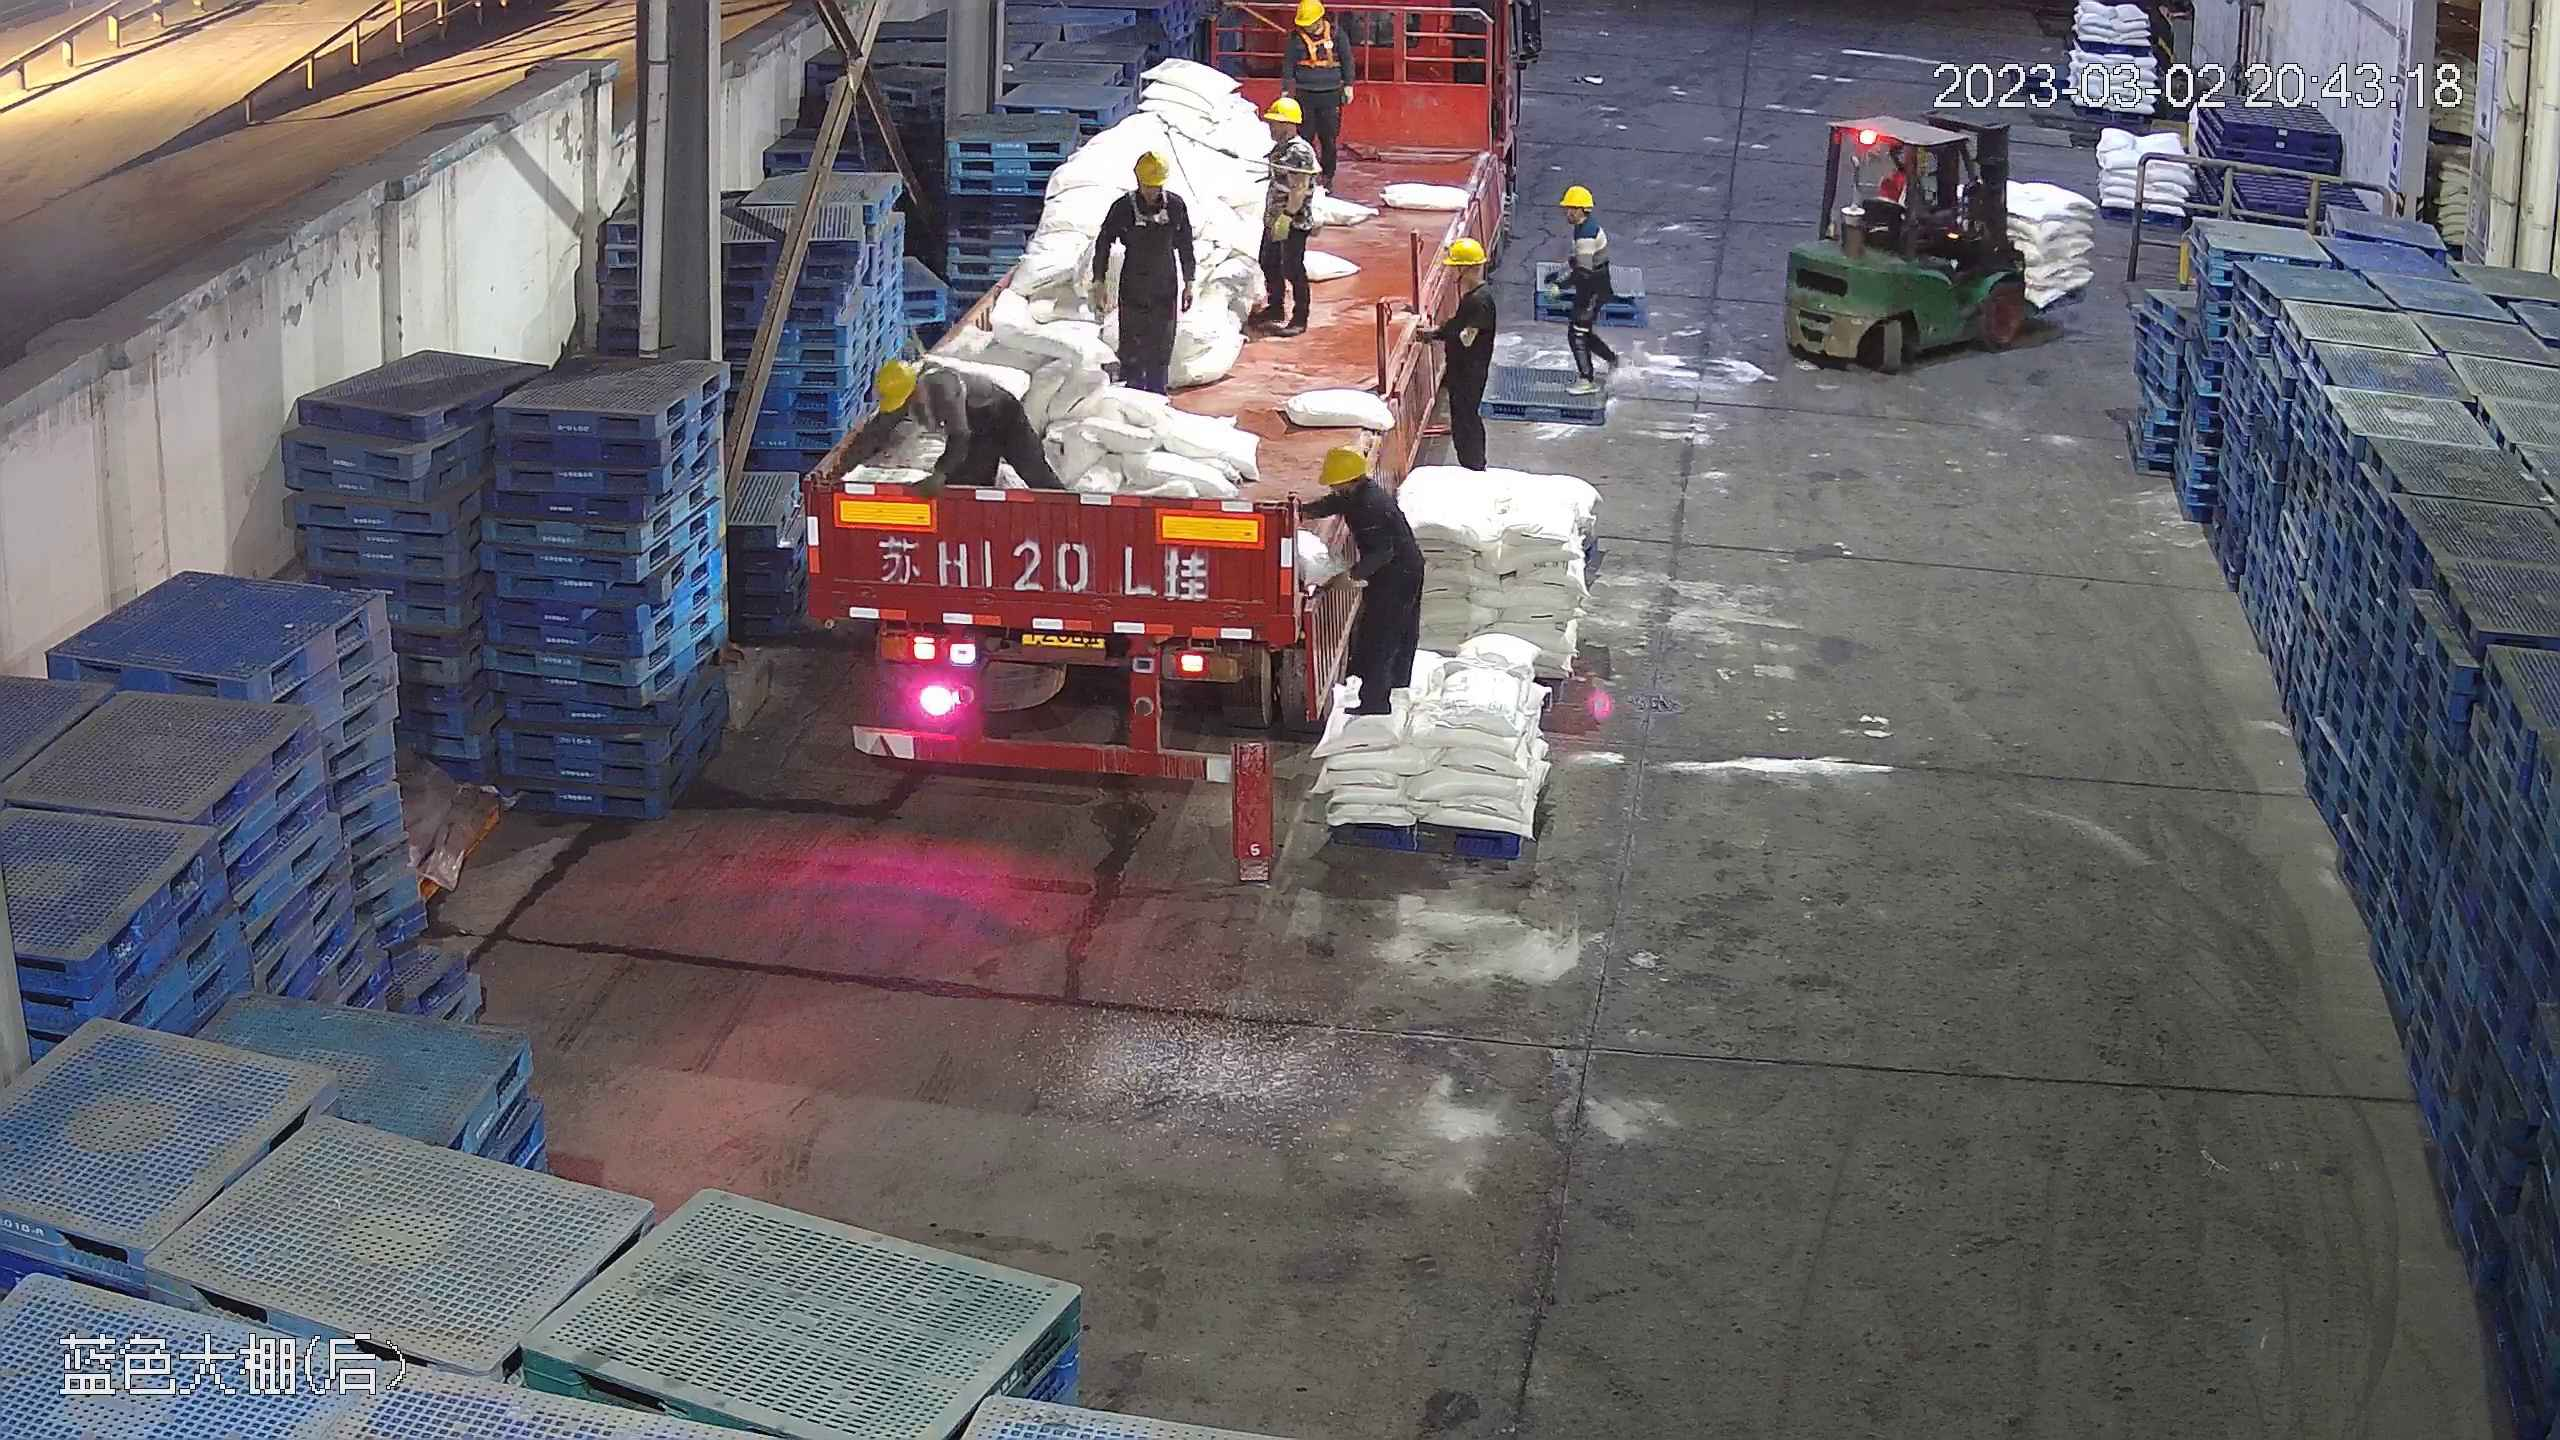belt: (922, 348, 988, 415), (1262, 133, 1314, 197), (1122, 180, 1176, 225), (1297, 22, 1343, 65)
head: (1089, 147, 1197, 392), (1310, 441, 1403, 538), (870, 355, 962, 432), (1107, 150, 1190, 228), (1428, 235, 1499, 323), (1258, 96, 1318, 169), (1555, 185, 1607, 254), (1288, 1, 1351, 49), (1437, 235, 1490, 271)
helmet: (871, 355, 918, 413), (1288, 1, 1348, 46), (1315, 440, 1372, 485), (1440, 235, 1489, 269), (1129, 148, 1170, 185), (1263, 94, 1301, 123), (1560, 184, 1594, 207), (1293, 1, 1324, 24)
people: (1301, 442, 1425, 722), (845, 352, 1055, 491), (1087, 149, 1198, 403), (1412, 235, 1498, 477), (1252, 95, 1321, 330), (1278, 1, 1360, 188), (1547, 183, 1619, 382), (1264, 37, 1332, 176)
truck: (816, 24, 1522, 810)
